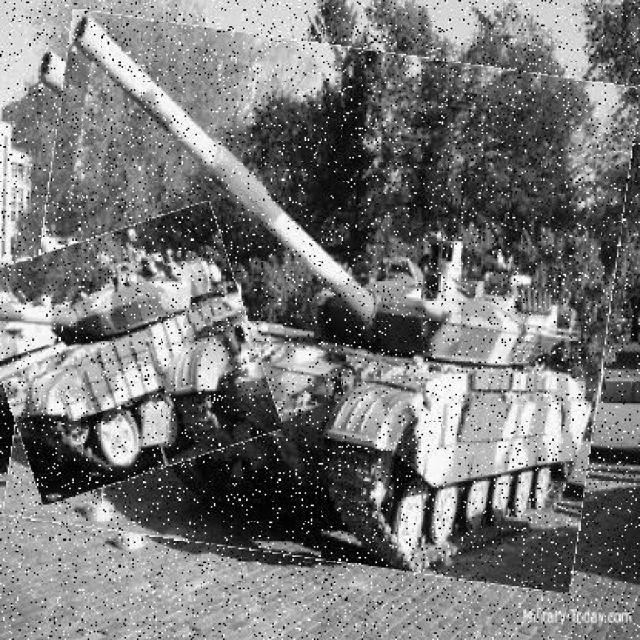Tank: (20, 29, 626, 576), (1, 216, 269, 492)
